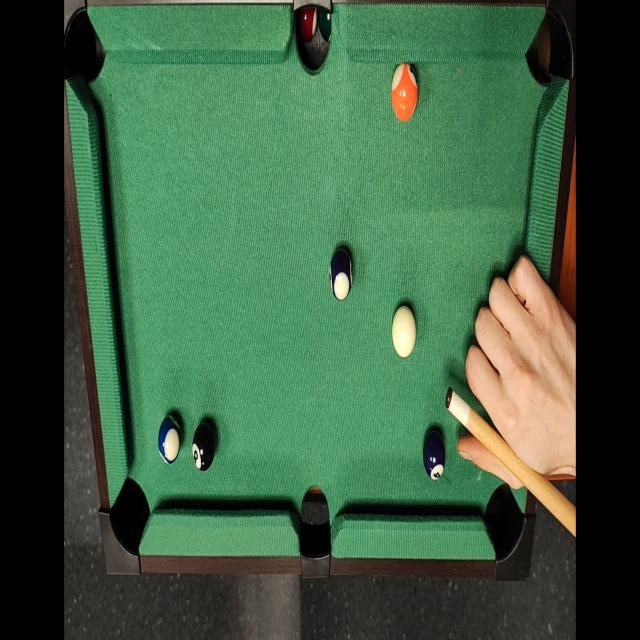cue ball: (392, 302, 418, 360)
other: (388, 58, 419, 129), (328, 246, 354, 306), (423, 427, 447, 486), (157, 412, 181, 467), (193, 422, 217, 476)
